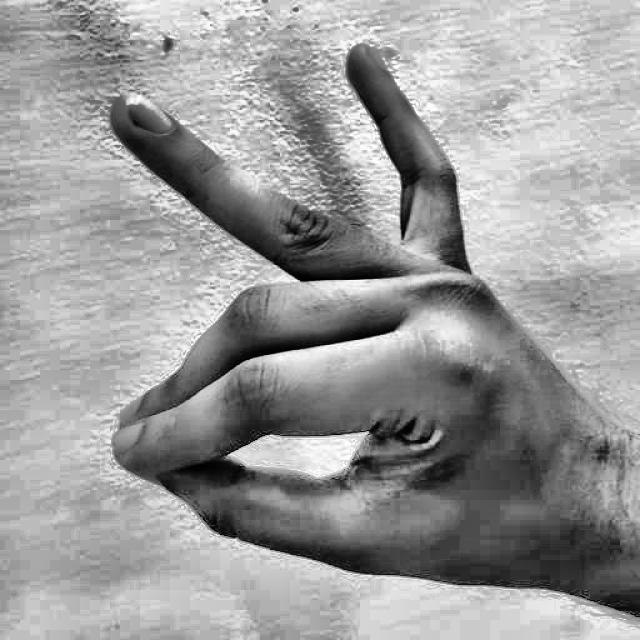Na: (70, 21, 574, 609)
